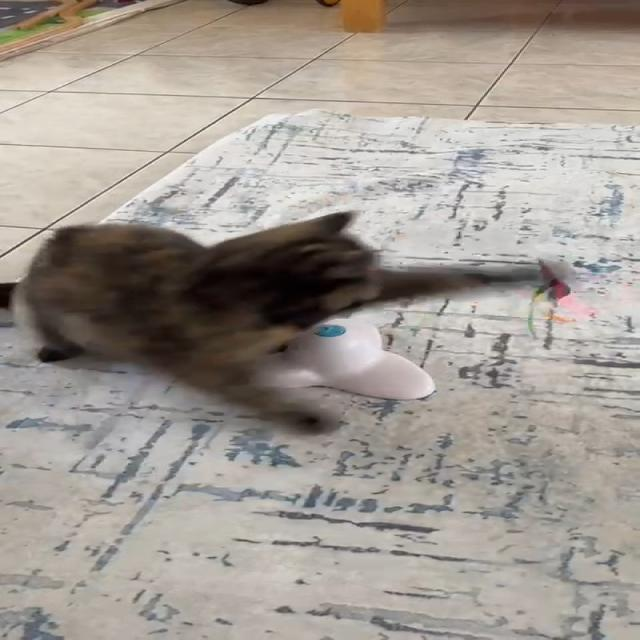authorized: (5, 209, 492, 436)
